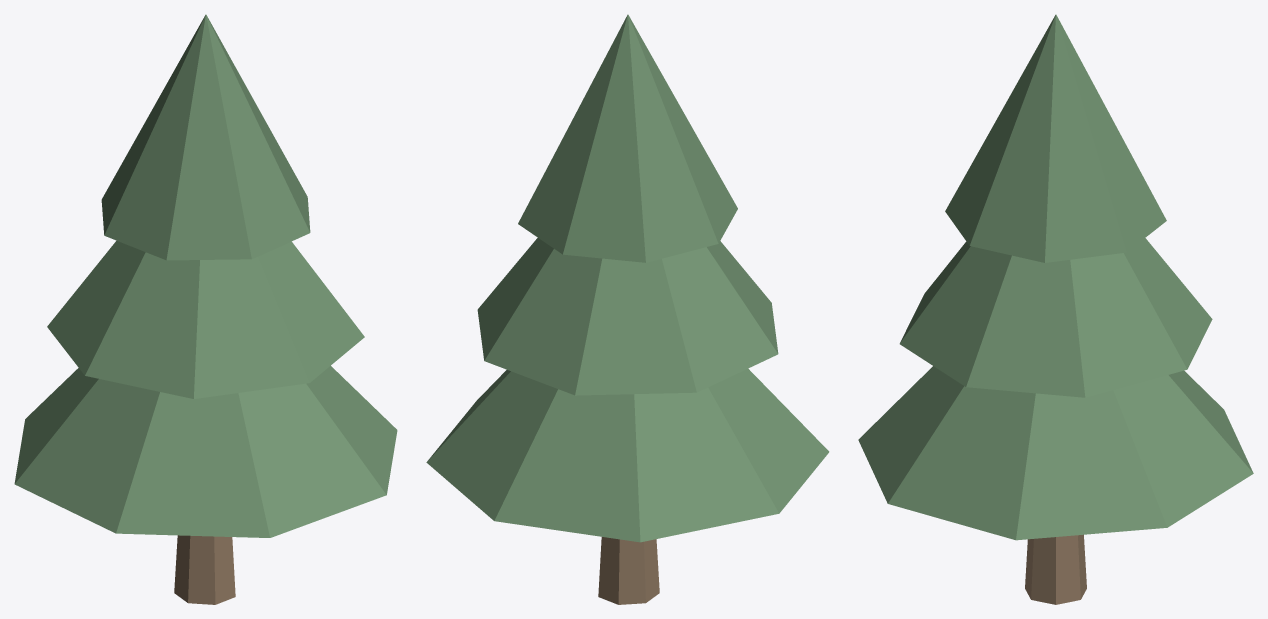
The model's file is test_tree.glb.
3 renders of one model, left to right at view 1: azimuth 30°, elevation 25°; view 2: azimuth 150°, elevation 25°; view 3: azimuth 270°, elevation 25°, orthographic.
Visible parts, largest first — view 1: test_tree; view 2: test_tree; view 3: test_tree.
Boxes of the visible parts, x1=… form: test_tree: x1=14, y1=14, x2=397, y2=604; test_tree: x1=426, y1=14, x2=829, y2=604; test_tree: x1=858, y1=14, x2=1253, y2=604.
Bounding box in the file's own units: 3.72 × 6 × 3.72.
